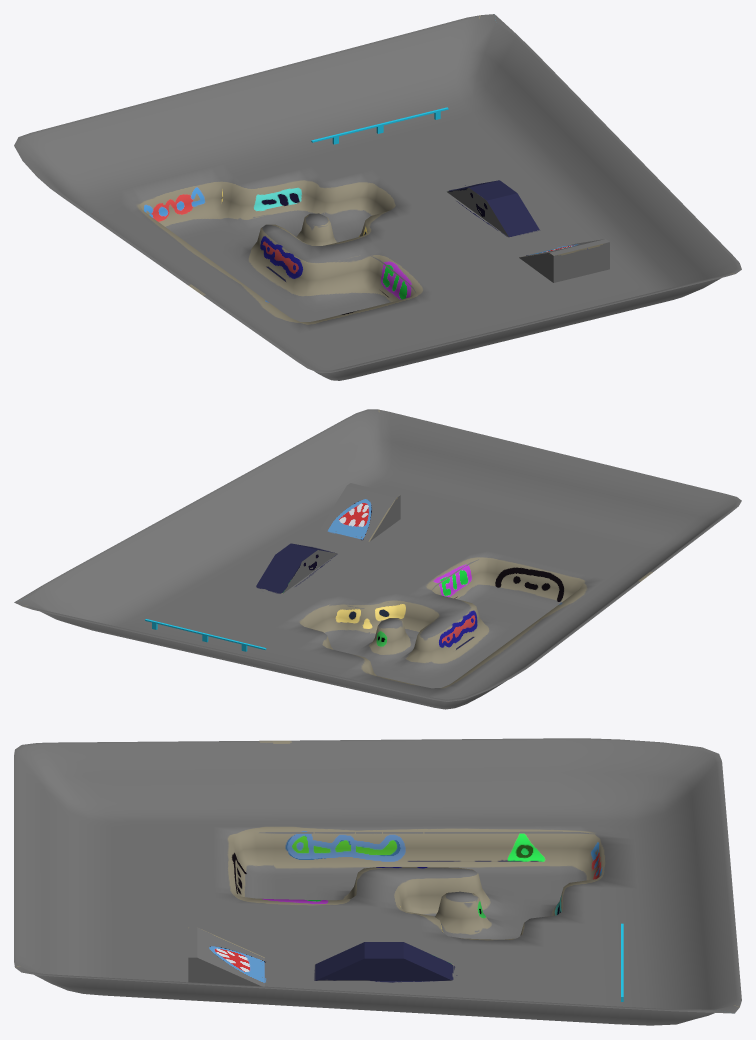
Rendered from skatepark.fbx.
3 renders of one model, top to bottom at view 1: azimuth 30°, elevation 25°; view 2: azimuth 150°, elevation 25°; view 3: azimuth 270°, elevation 25°, orthographic. The views are drawn at different scales.
Parts seen in each view (by area): view 1: Plane; view 2: Plane; view 3: Plane.
Boxes of the visible parts, bbox=[...] form: Plane: bbox=[14, 14, 741, 380]; Plane: bbox=[14, 409, 741, 709]; Plane: bbox=[14, 738, 741, 1025].
Bounding box in the file's own units: 19794 × 2563 × 22123.
Materials: 1 (1 with a texture image).
